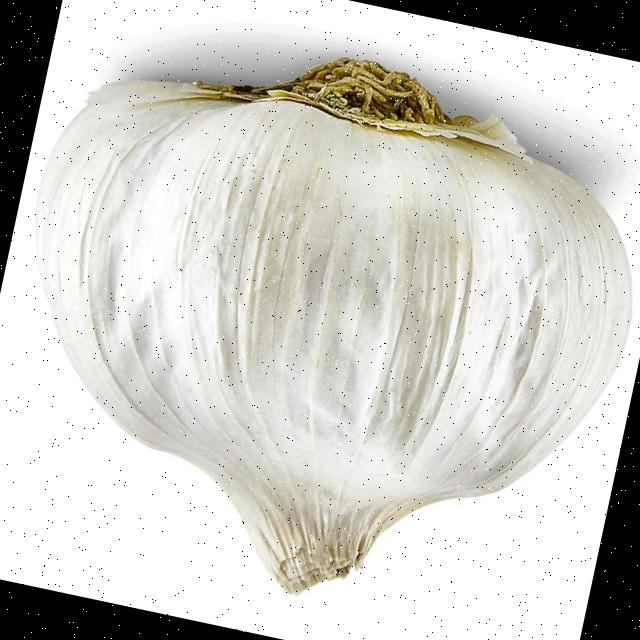garlic: (36, 58, 629, 592)
